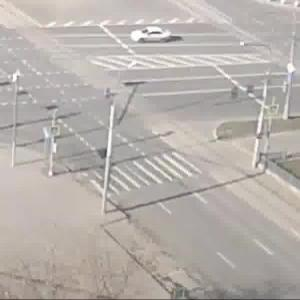car: (130, 27, 174, 49)
